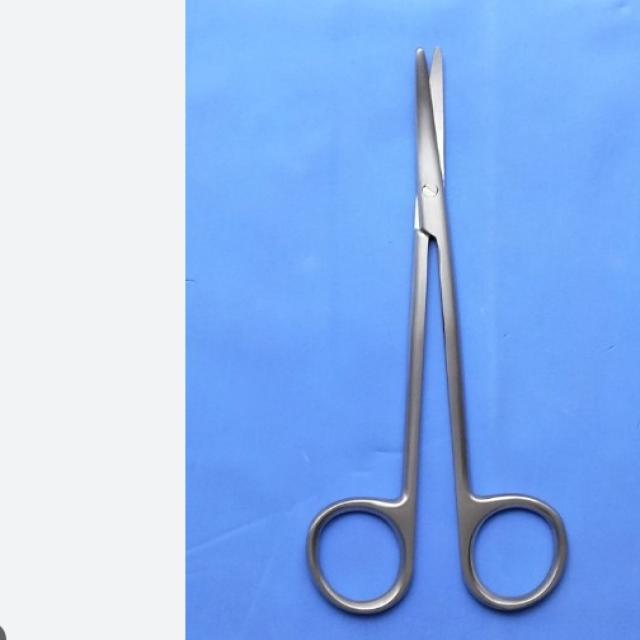Metzenbaum Sciccors: (300, 36, 579, 622)
